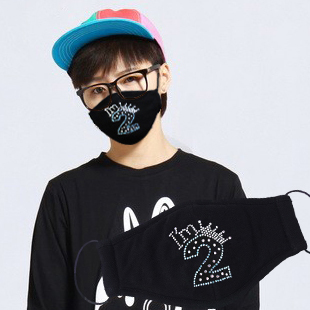face_mask: (80, 58, 158, 143)
